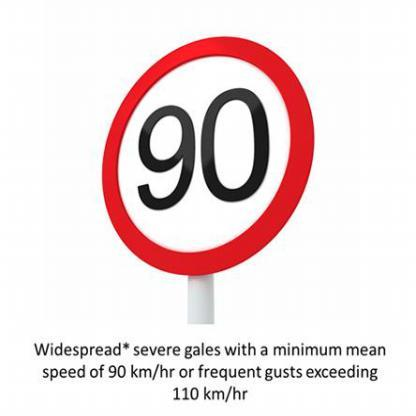Speed Limit 90: (102, 31, 312, 276)
